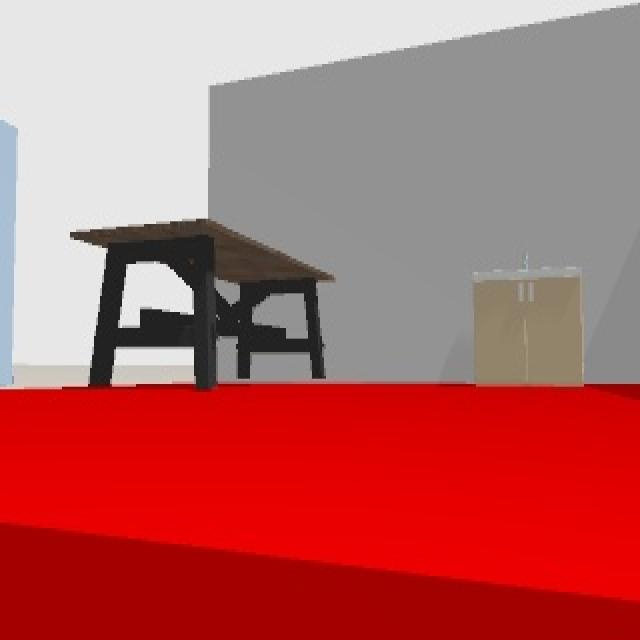dining: (69, 228, 337, 386)
